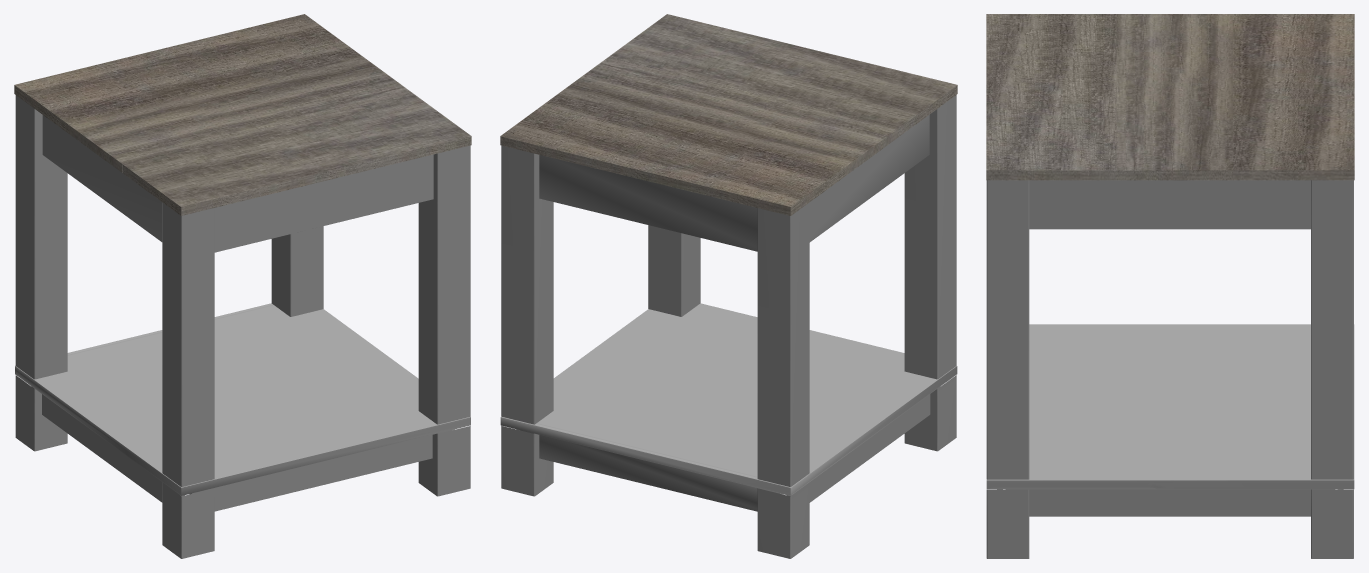
File: B01N3MBCKT.glb
The picture shows the model from 3 angles, left to right: view 1: azimuth 30°, elevation 25°; view 2: azimuth 150°, elevation 25°; view 3: azimuth 270°, elevation 25°; orthographic projection. The views are drawn at different scales.
Visible parts, largest first — view 1: "$ACNKPLLDHPBAAAAAICBAAAAAAAAAJILIHMHG"; view 2: "$ACNKPLLDHPBAAAAAICBAAAAAAAAAJILIHMHG"; view 3: "$ACNKPLLDHPBAAAAAICBAAAAAAAAAJILIHMHG".
Boxes of the visible parts, x1=… form: "$ACNKPLLDHPBAAAAAICBAAAAAAAAAJILIHMHG": x1=14, y1=14, x2=471, y2=558; "$ACNKPLLDHPBAAAAAICBAAAAAAAAAJILIHMHG": x1=500, y1=14, x2=957, y2=558; "$ACNKPLLDHPBAAAAAICBAAAAAAAAAJILIHMHG": x1=986, y1=14, x2=1354, y2=558.
Bounding box in the file's own units: 0.5064 × 0.5867 × 0.5039.
Materials: 1 (1 with a texture image).
